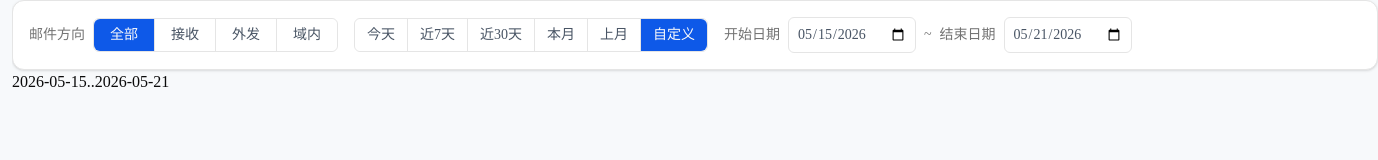
Test case: FilterBar re-seeding across timeRange switches (review finding) › discards a rejected draft when the user leaves and re-enters 自定义
Type "2026-05-01" into the date field labelled "结束日期" at (1068, 35), box x1=1004 y1=17 x2=1132 y2=53
Wait 510 ms
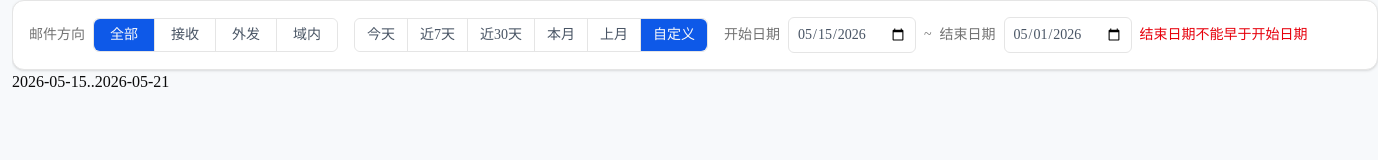
Expected: the message "结束日期不能早于开始日期" is shown, x1=1140 y1=25 x2=1308 y2=45
Click the button "近7天" at (438, 35), box x1=408 y1=19 x2=468 y2=51
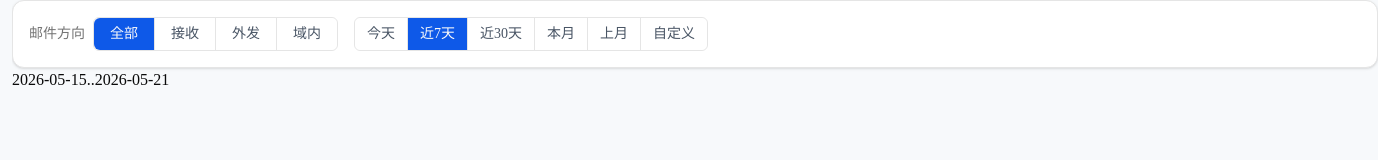
Click the button "自定义" at (674, 34), box x1=641 y1=18 x2=707 y2=50
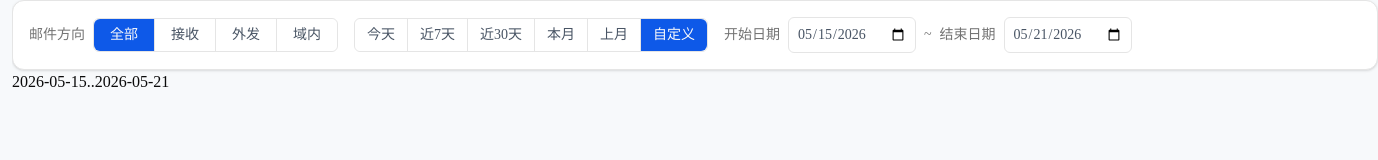
Expected: the message "结束日期不能早于开始日期" is not shown
Expected: the date field labelled "结束日期" holds "2026-05-21", x1=1004 y1=17 x2=1132 y2=53
Expected: the date field labelled "开始日期" holds "2026-05-15", x1=788 y1=17 x2=916 y2=53
